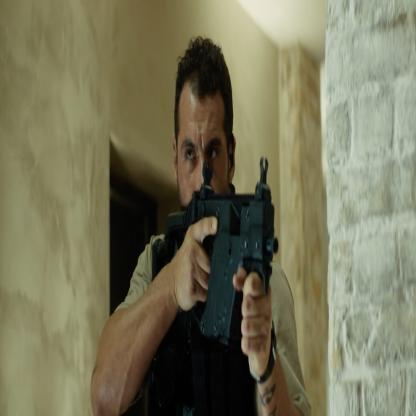gun: (155, 171, 286, 338)
